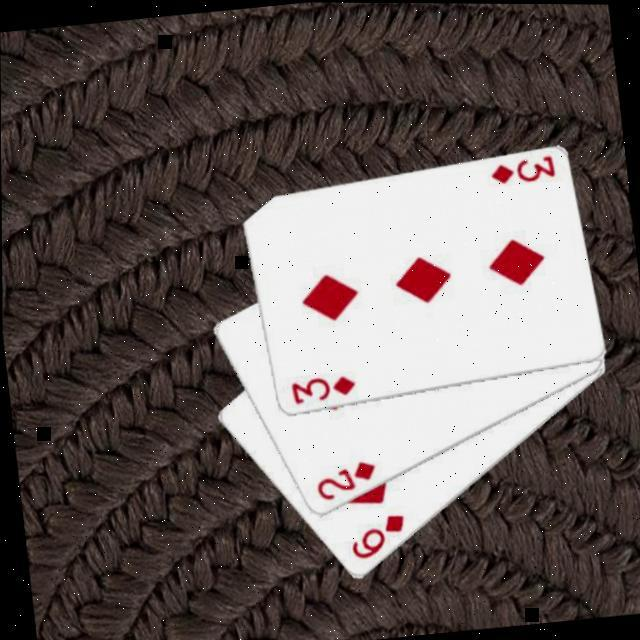2D: (312, 458, 382, 507)
3D: (486, 152, 560, 190), (288, 372, 360, 409)
6D: (345, 510, 412, 564)
